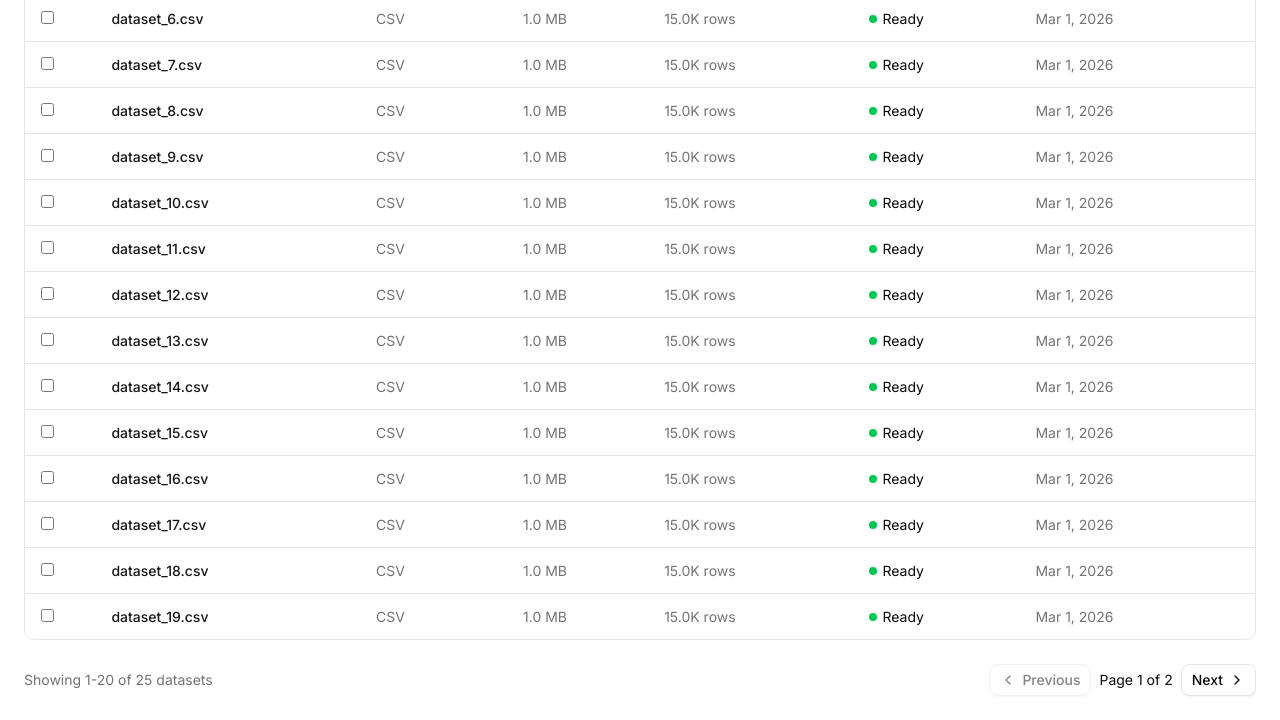
Test: DatasetsPage › pagination › navigates to next page
(page scrolled)
Click the button with test id "page-next".
click(1218, 680)  # box left=1181, top=664, right=1256, bottom=696
(page scrolled)
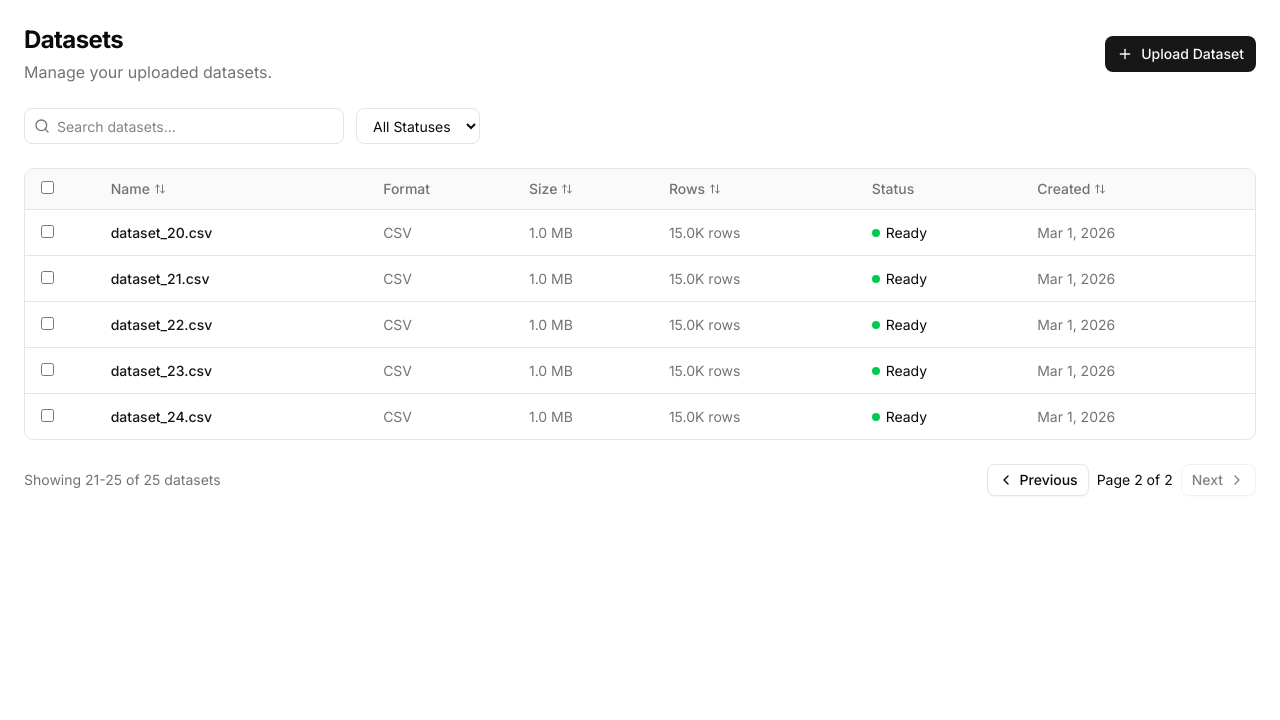
Now the text "Page 2 of 2" is shown, box left=1097, top=470, right=1173, bottom=490
